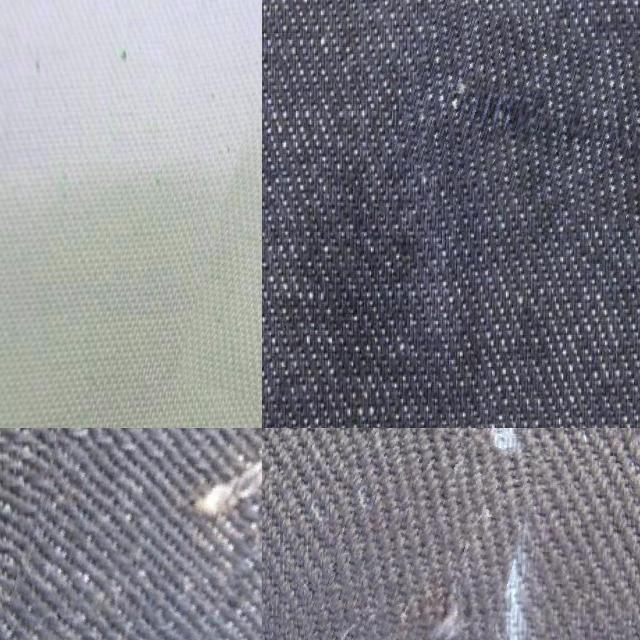Thread_other: (400, 26, 640, 258), (11, 428, 262, 640), (267, 428, 511, 640), (190, 126, 262, 428)
